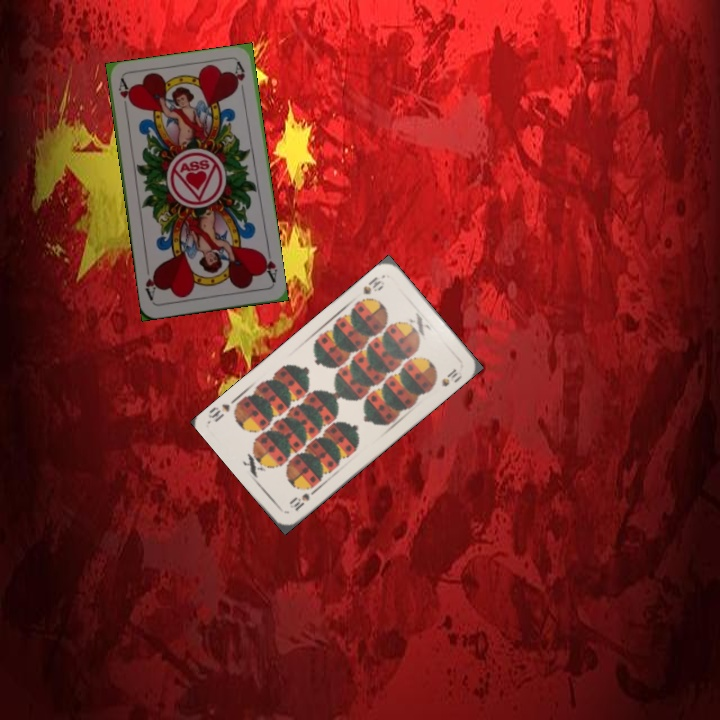HA: (257, 245, 280, 285), (114, 76, 134, 116)
S10: (286, 485, 319, 513), (359, 273, 385, 297)
